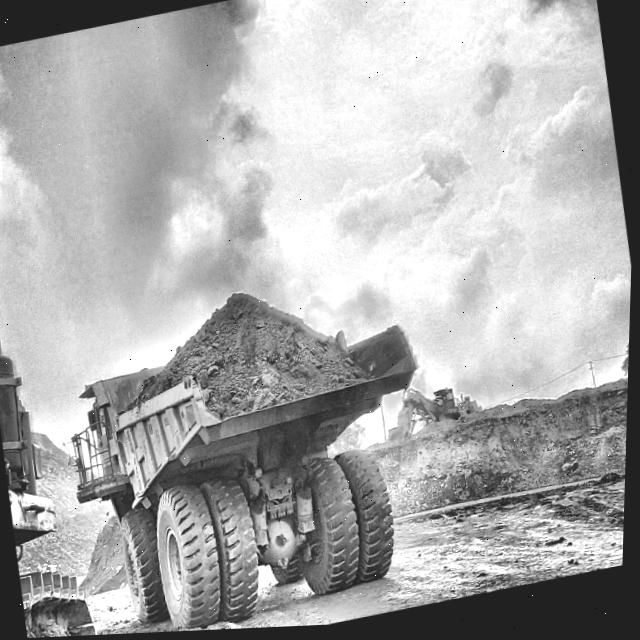dump_truck: (91, 304, 418, 633)
